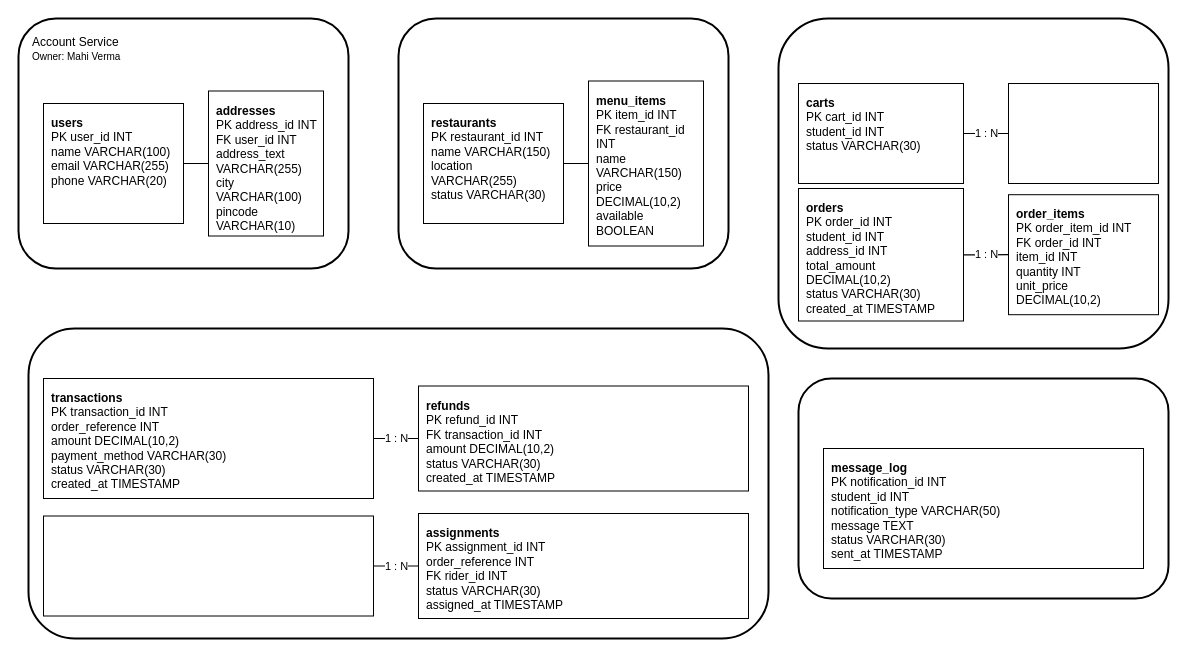
Image size: 1186x656. Some labels were removed from this diagram. The shapes that lost their labels are listed below. From the top down, each one's box as (x1, y1, x2, y2) in pixels, then its label:
(397, 17, 729, 269): Catalogue Service Owner: Abhishek Jadhao
(1008, 82, 1158, 184): cart_items PK cart_item_id INT FK cart_id INT item_id INT quantity INT
(777, 17, 1169, 349): Orders Service Owner: Subham Kumar Mohanty
(27, 327, 769, 639): Payments & Delivery Service Owner: Harsh N Shende
(797, 377, 1169, 599): Notification Service Owner: Rishabh Mishra
(42, 515, 374, 616): riders PK rider_id INT name VARCHAR(100) phone VARCHAR(20) status VARCHAR(30)
